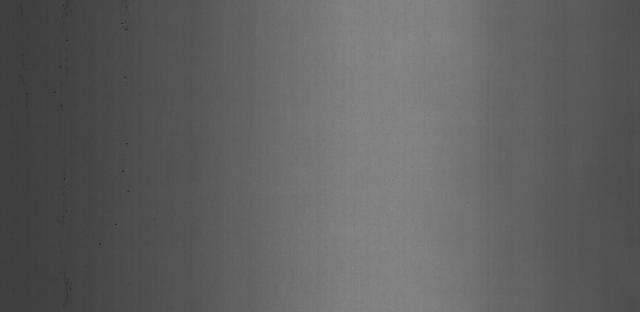silk_spot: (39, 158, 95, 226)
